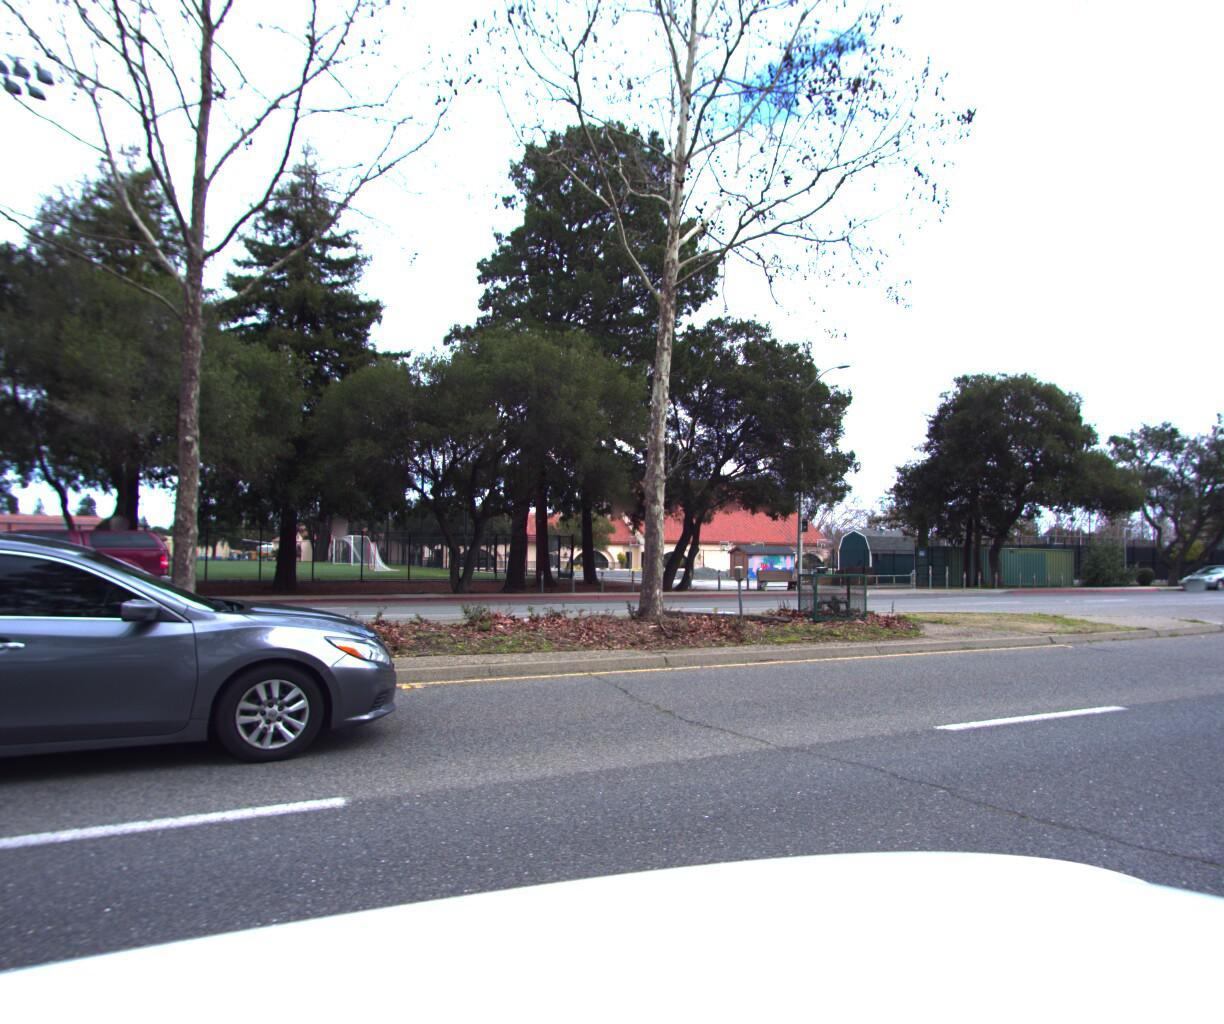car: (0, 530, 421, 869), (0, 522, 206, 612), (1169, 558, 1224, 588)
